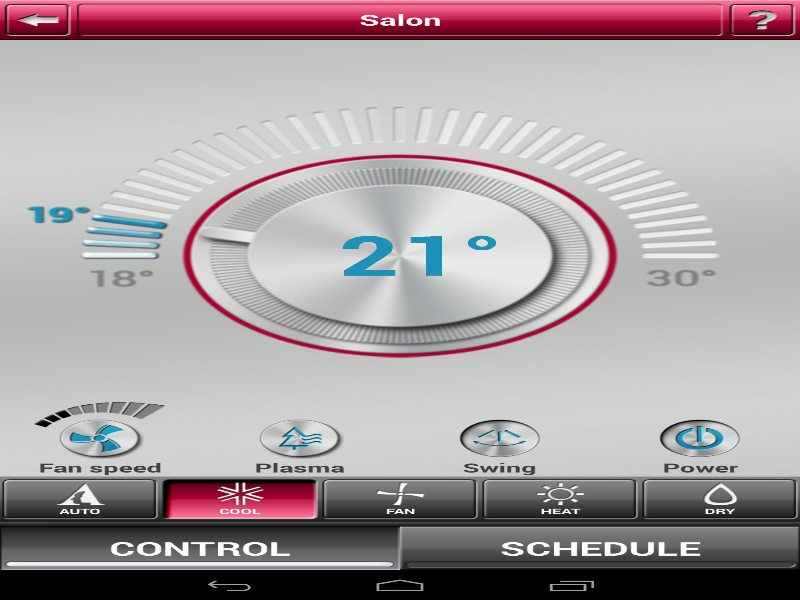Button: (0, 526, 400, 570), (400, 526, 800, 570), (1, 478, 158, 519), (161, 478, 318, 519), (321, 478, 478, 519), (481, 478, 638, 519), (641, 478, 798, 519), (2, 2, 72, 36), (727, 2, 797, 36)
Input: (75, 2, 724, 36)
